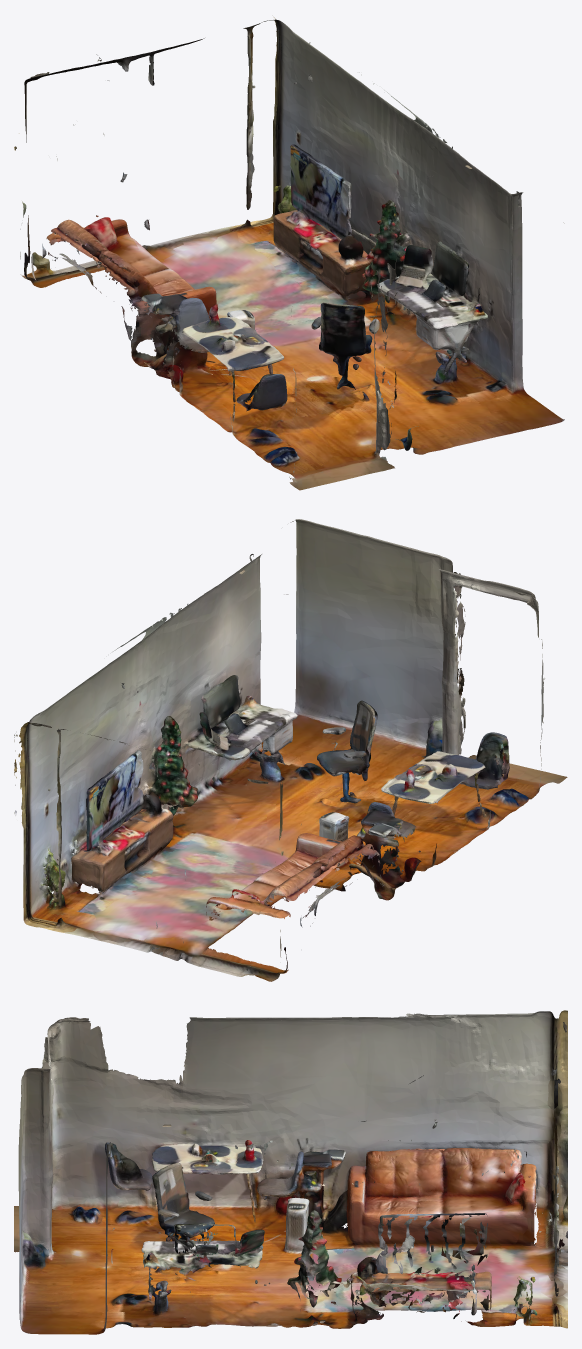
File: Dpto_optimized.glb
3 renders of one model, top to bottom at view 1: azimuth 30°, elevation 25°; view 2: azimuth 150°, elevation 25°; view 3: azimuth 270°, elevation 25°, orthographic. The views are drawn at different scales.
Visible parts, largest first — view 1: mesh; view 2: mesh; view 3: mesh.
Boxes of the visible parts, left/top/right/bottom form: mesh: left=14, top=17, right=564, bottom=490; mesh: left=14, top=519, right=567, bottom=981; mesh: left=14, top=1010, right=567, bottom=1334.
Bounding box in the file's own units: 3.24 × 2.38 × 5.95.
Materials: 1 (1 with a texture image).
